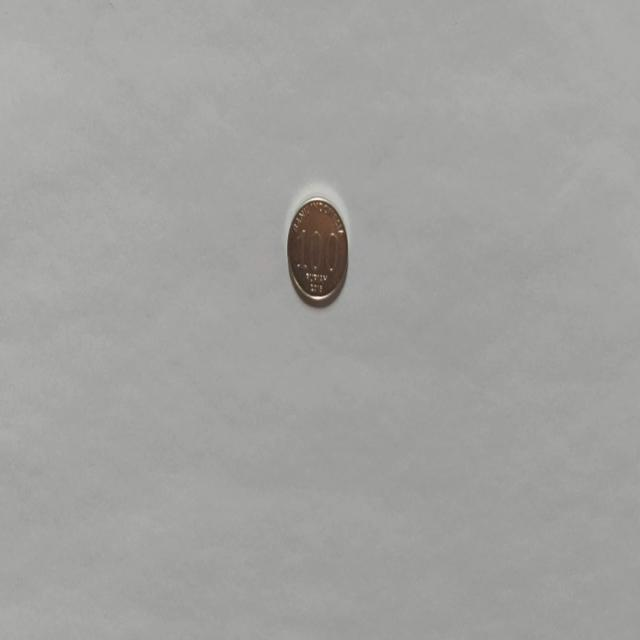seratus rupiah: (286, 194, 348, 308)
